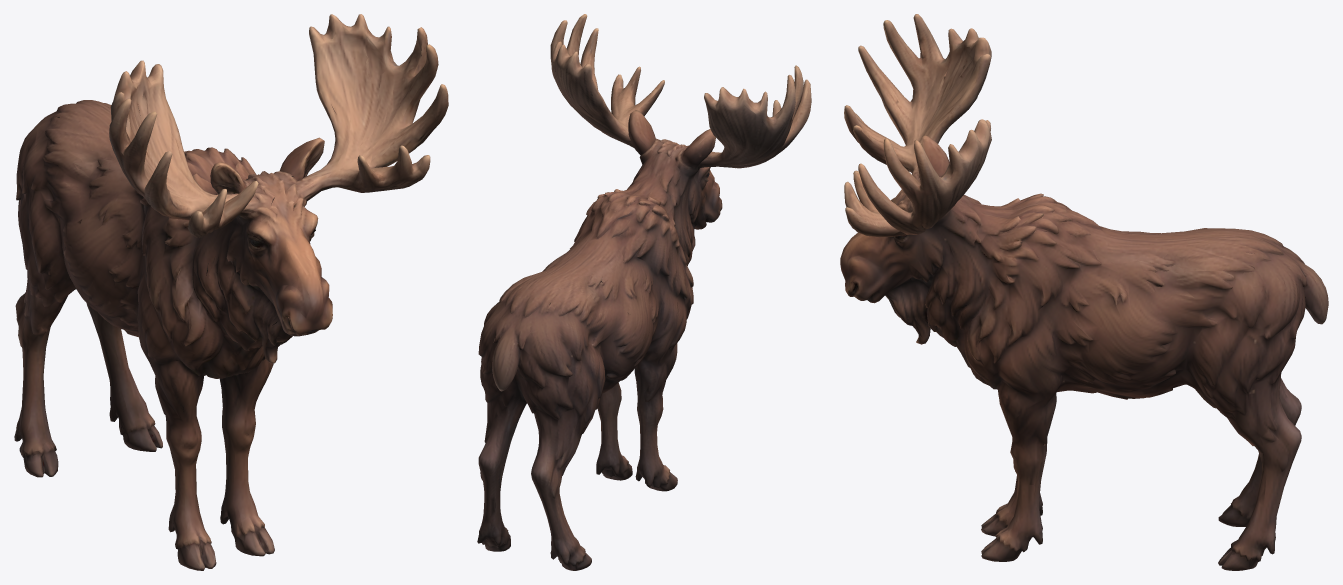
Rendered from Moose_clean.glb.
3 renders of one model, left to right at view 1: azimuth 30°, elevation 25°; view 2: azimuth 150°, elevation 25°; view 3: azimuth 270°, elevation 25°, orthographic. The views are drawn at different scales.
Visible parts, largest first — view 1: Moose; view 2: Moose; view 3: Moose.
Boxes of the visible parts, x1,y1,x2,y2 form: Moose: [14, 14, 448, 570]; Moose: [477, 14, 811, 570]; Moose: [840, 14, 1328, 570].
Size of the model in its own units: 1.2 by 1.9 by 1.8.
Materials: 1 (1 with a texture image).
